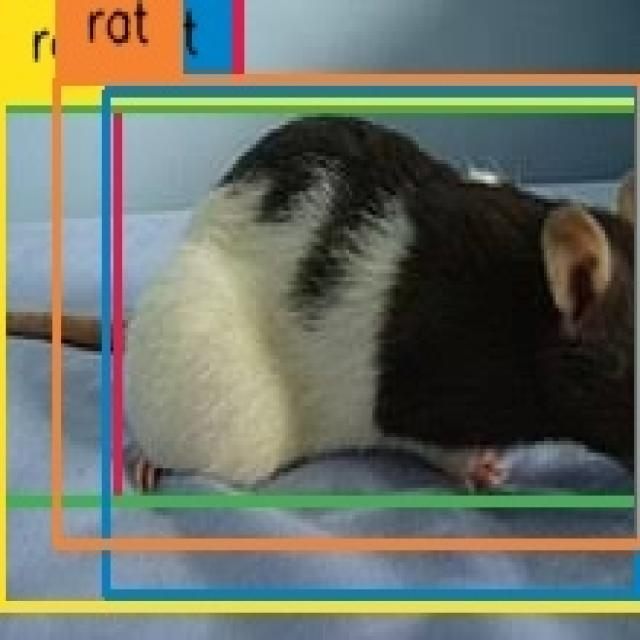rat: (0, 101, 640, 605), (104, 93, 640, 597), (58, 82, 640, 546), (0, 108, 640, 502), (116, 108, 640, 502)
